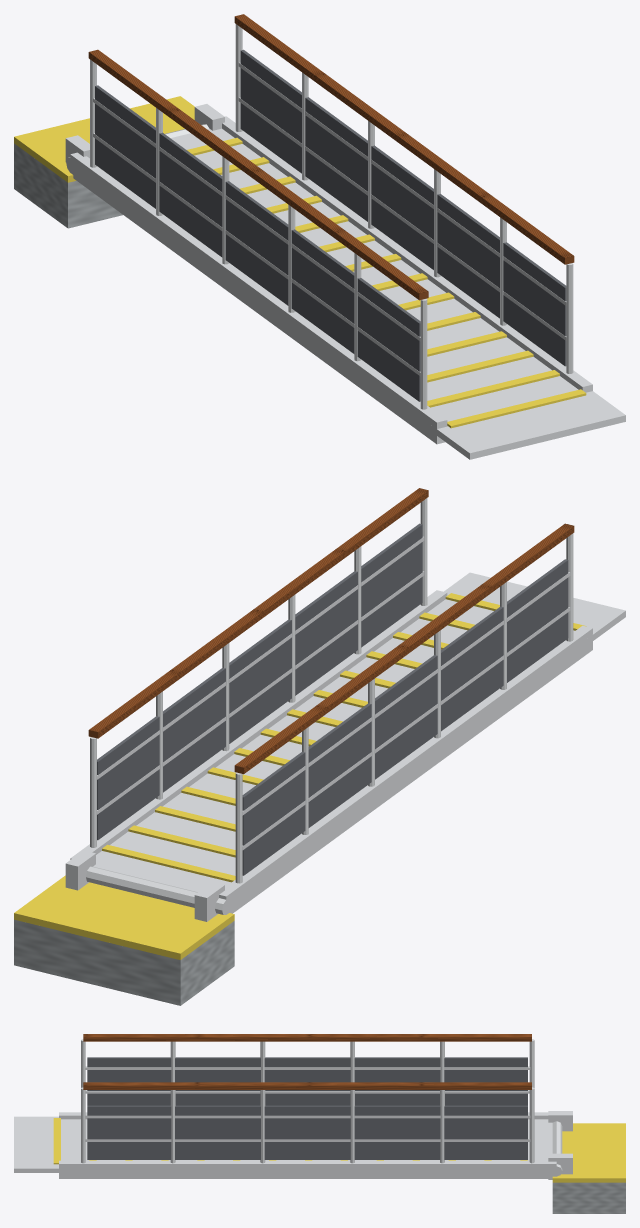
Rendered from cruise-ship-deck-and-lounge-cruise-ship-deck-and-loung-80759120__38427.glb.
3 views of the same model, one above another, from view 1: azimuth 30°, elevation 25°; view 2: azimuth 150°, elevation 25°; view 3: azimuth 270°, elevation 25° (orthographic). The views are drawn at different scales.
Visible parts, largest first — view 1: gangway-deck/charcoal (×2), gangway-deck/steel (×11), gangway-deck/teak (×2), cruise-ship-deck-and-lounge-gangway, gangway-deck/yellow (×4); view 2: gangway-deck/charcoal (×2), gangway-deck/steel (×10), cruise-ship-deck-and-lounge-gangway, gangway-deck/teak (×2), gangway-deck/yellow (×2); view 3: gangway-deck/charcoal (×2), gangway-deck/steel (×15), gangway-deck/teak (×2), cruise-ship-deck-and-lounge-gangway, gangway-deck/yellow.
Part boxes in pixels (box(x1,y1,x2,y2)): gangway-deck/charcoal (×2): box(95, 49, 566, 401); gangway-deck/steel (×11): box(70, 24, 625, 459); gangway-deck/teak (×2): box(88, 14, 574, 300); cruise-ship-deck-and-lounge-gangway: box(14, 96, 224, 228); gangway-deck/yellow (×4): box(427, 331, 586, 428); gangway-deck/charcoal (×2): box(97, 523, 568, 875); gangway-deck/steel (×10): box(70, 536, 625, 914); cruise-ship-deck-and-lounge-gangway: box(14, 850, 234, 1005); gangway-deck/teak (×2): box(88, 488, 574, 774); gangway-deck/yellow (×2): box(102, 825, 235, 882); gangway-deck/charcoal (×2): box(87, 1057, 527, 1159); gangway-deck/steel (×15): box(14, 1039, 556, 1178); gangway-deck/teak (×2): box(83, 1034, 531, 1089); cruise-ship-deck-and-lounge-gangway: box(548, 1111, 625, 1213); gangway-deck/yellow: box(53, 1118, 60, 1164).
Size of the model in its own units: 1.6 by 1.71 by 7.5.
5 materials, 2 textured.
